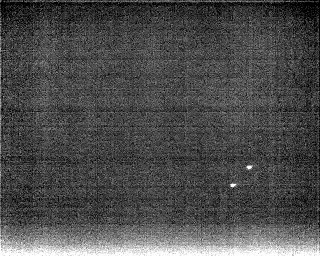BIRD: (228, 180, 238, 191)
